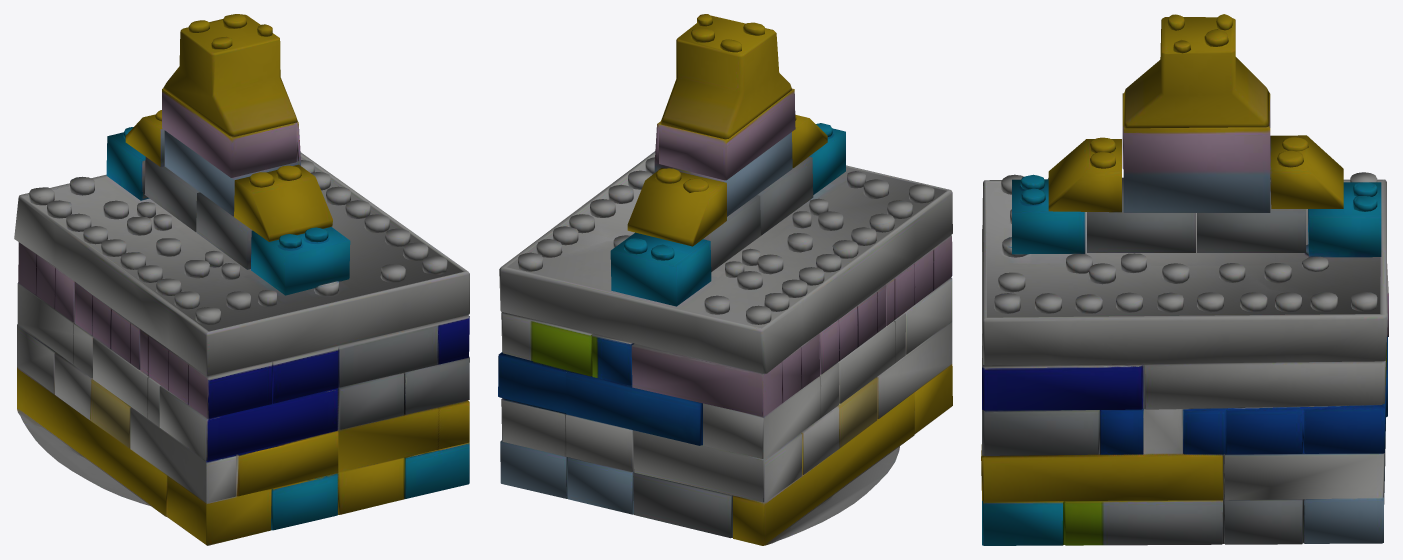
The model's file is object_17_asset_c802f096.glb.
The picture shows the model from 3 angles, left to right: view 1: azimuth 30°, elevation 25°; view 2: azimuth 150°, elevation 25°; view 3: azimuth 270°, elevation 25°; orthographic projection. The views are drawn at different scales.
Visible parts, largest first — view 1: tripo_node_14157edb-c2e4-4ba9-8c1a-d61518e0df14; view 2: tripo_node_14157edb-c2e4-4ba9-8c1a-d61518e0df14; view 3: tripo_node_14157edb-c2e4-4ba9-8c1a-d61518e0df14.
Boxes of the visible parts, x1,y1,x2,y2 form: tripo_node_14157edb-c2e4-4ba9-8c1a-d61518e0df14: (14,14,469,545); tripo_node_14157edb-c2e4-4ba9-8c1a-d61518e0df14: (498,14,952,545); tripo_node_14157edb-c2e4-4ba9-8c1a-d61518e0df14: (981,14,1388,545).
Size of the model in its own units: 0.7246 by 0.998 by 0.8262.
1 material, 1 textured.
